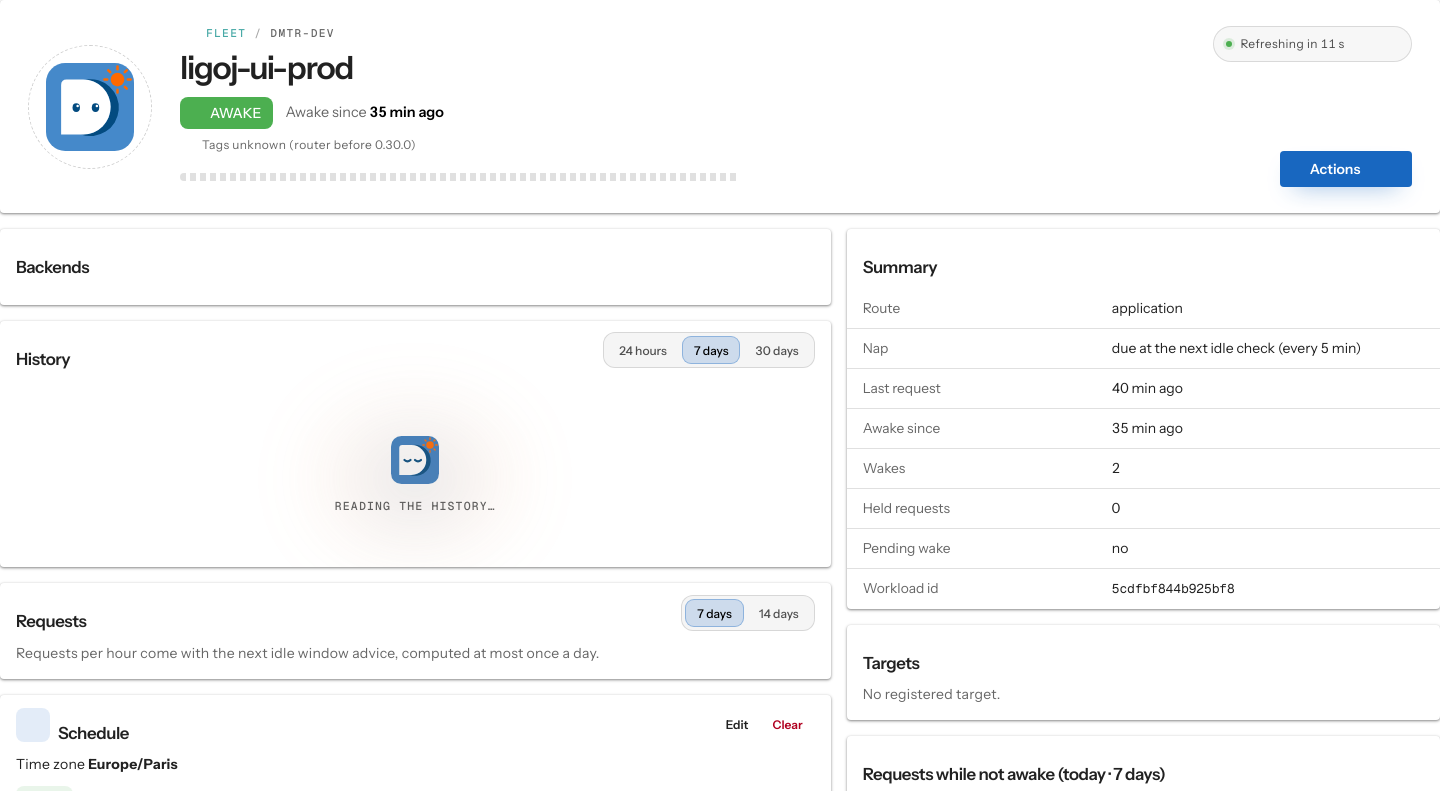
Scenario: Workload view › clears the schedule after the confirmation: DELETE, then a refresh (R12)
Click the button with test id "clear-schedule": (788, 724) [760,710,815,738]
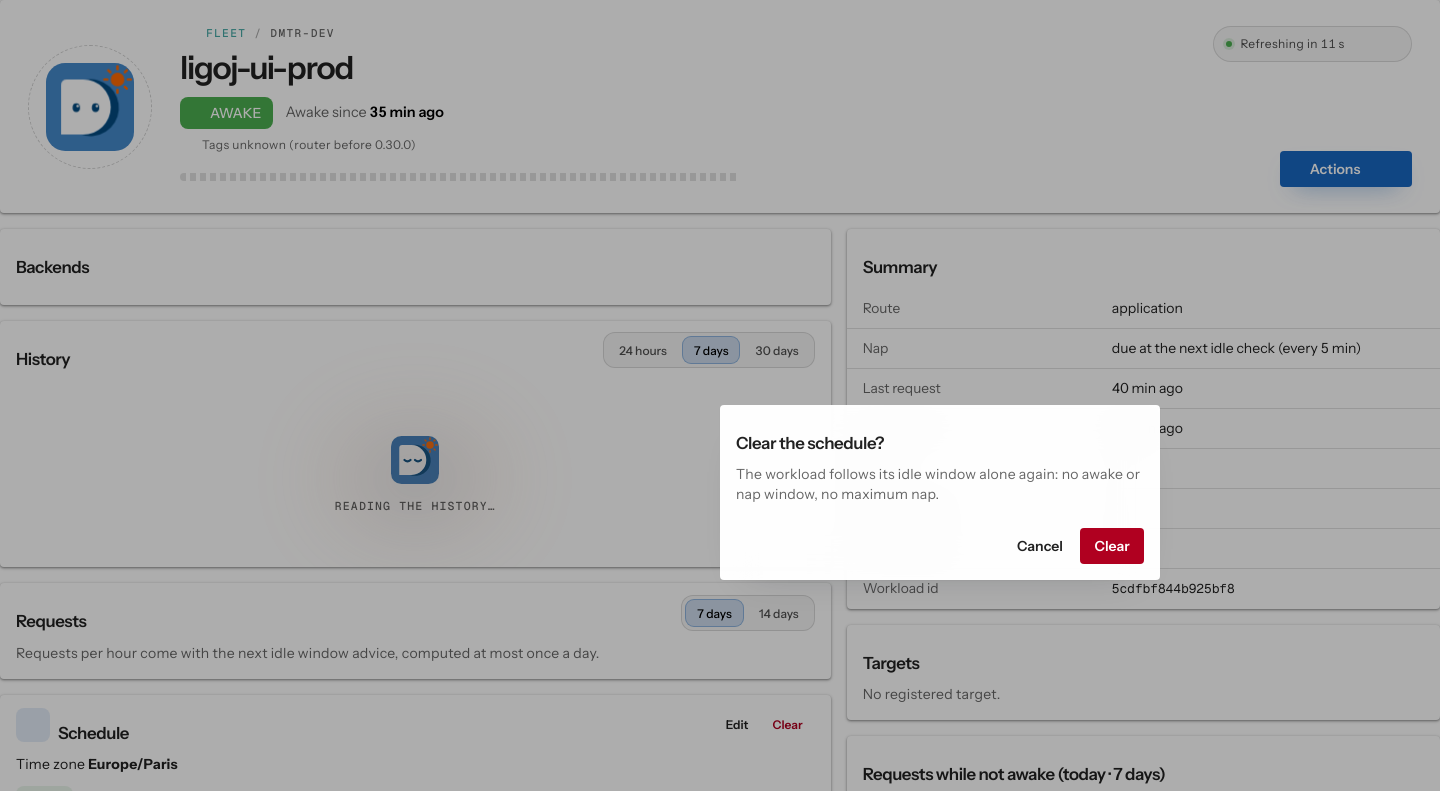
Click the button "Clear": (1112, 546) [1080,528,1144,564]
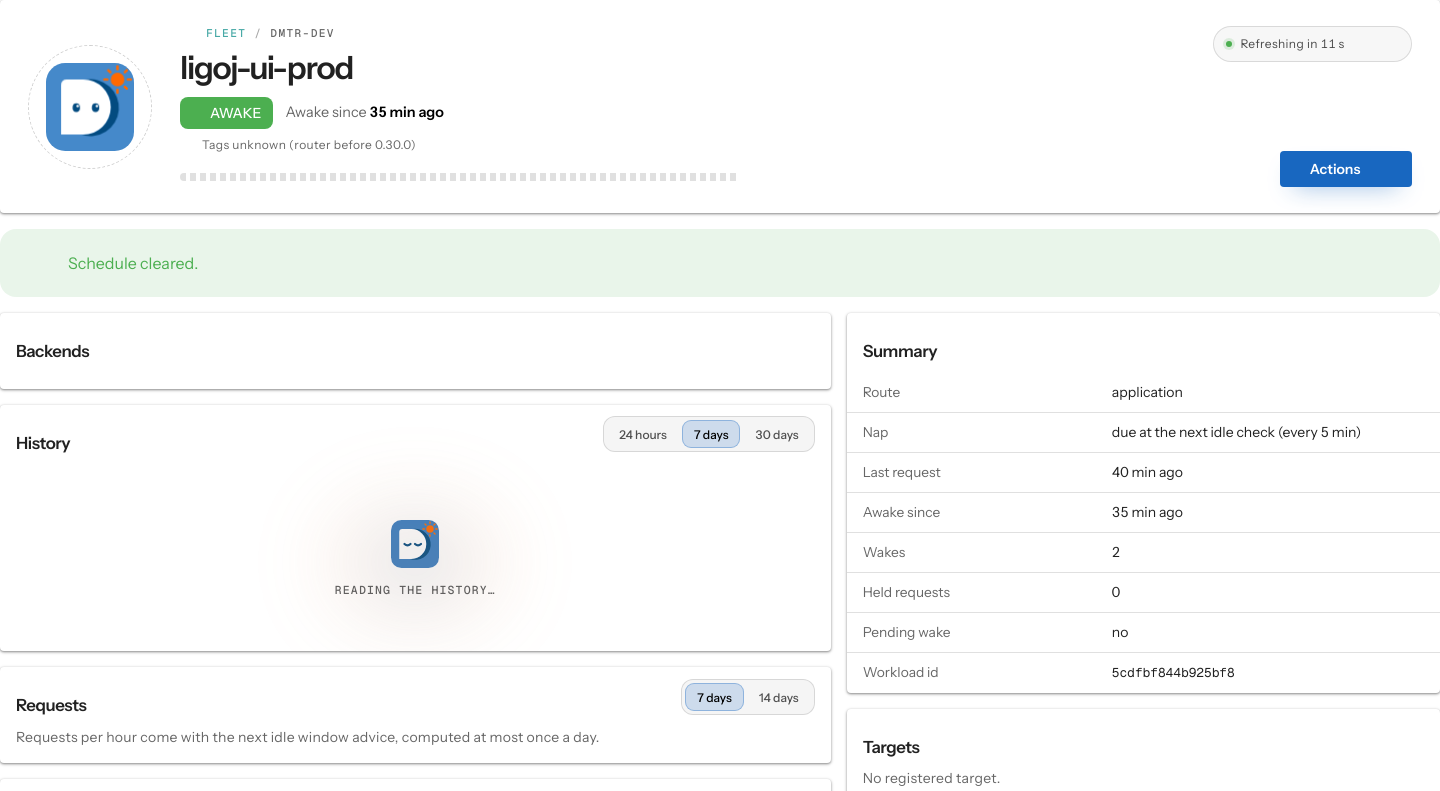
expect the text "Schedule cleared" is shown: met, box [68,253,198,273]
